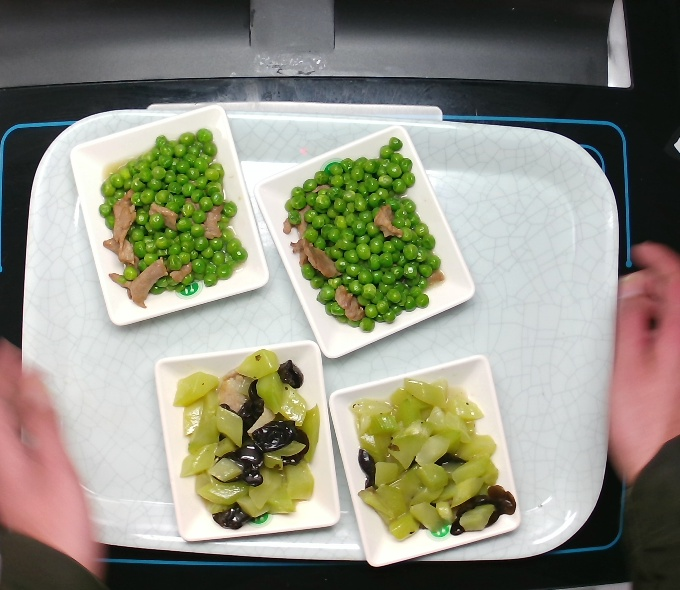wcq-CanDouRouSi: (282, 136, 448, 338), (85, 127, 254, 310)
wcq-WoSunKuai: (346, 374, 517, 546), (170, 338, 324, 528)
